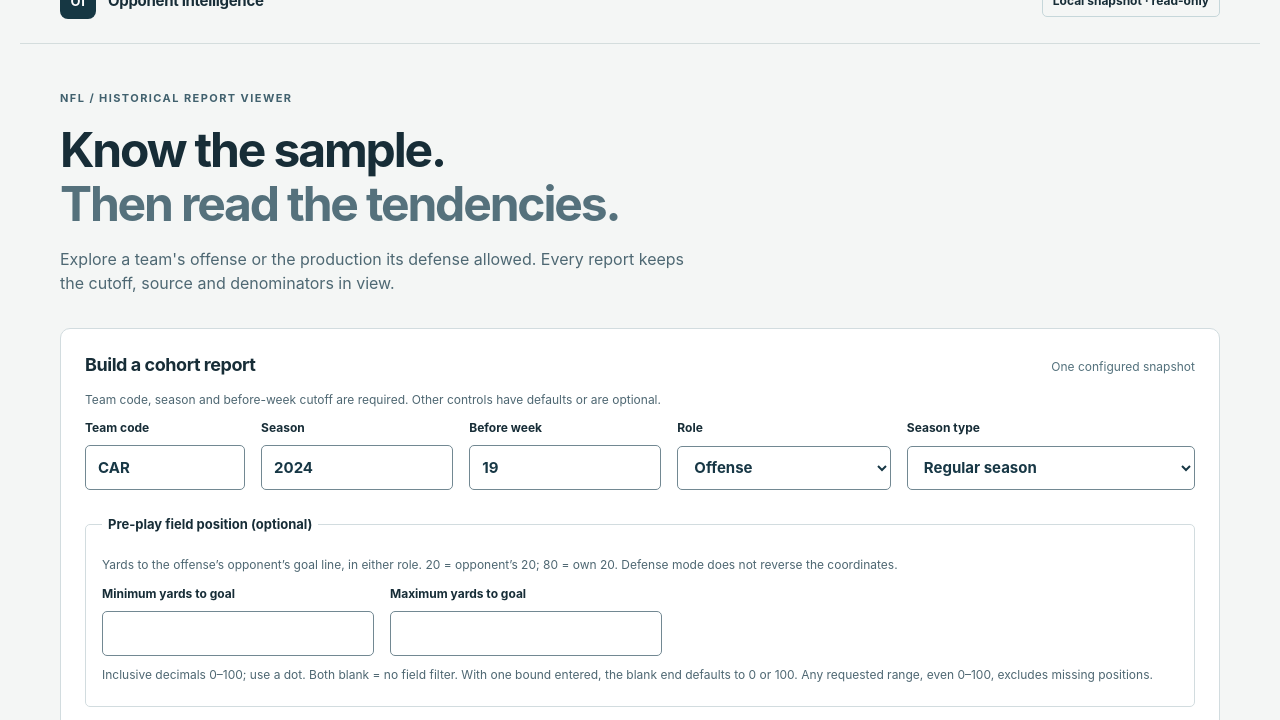
Test: download follows the displayed response, never a stale draft › has no link in idle/loading/stale/error states and releases the previous report on resubmit
Replace the text in the number field labelled "Before week" with "3" at (565, 468), box [469,445,661,490]
(page scrolled)
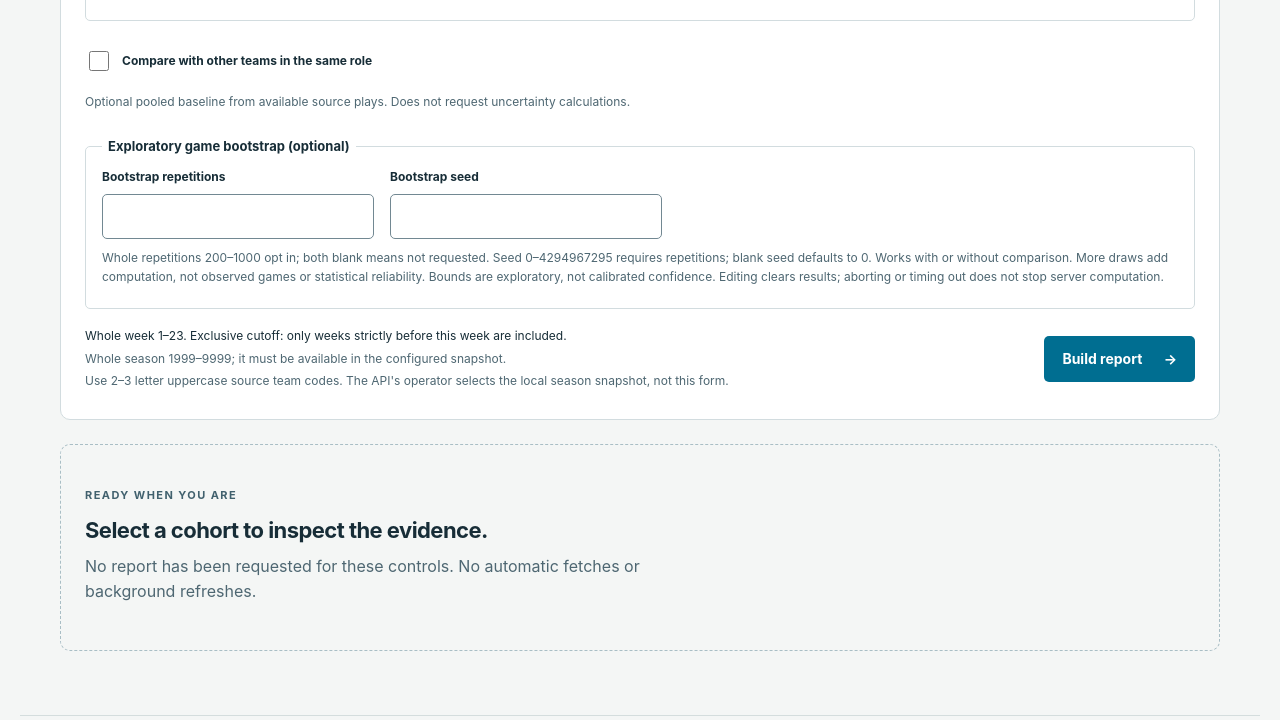
Click the button "Build report →" at (1120, 359), box [1044,336,1195,382]
(page scrolled)
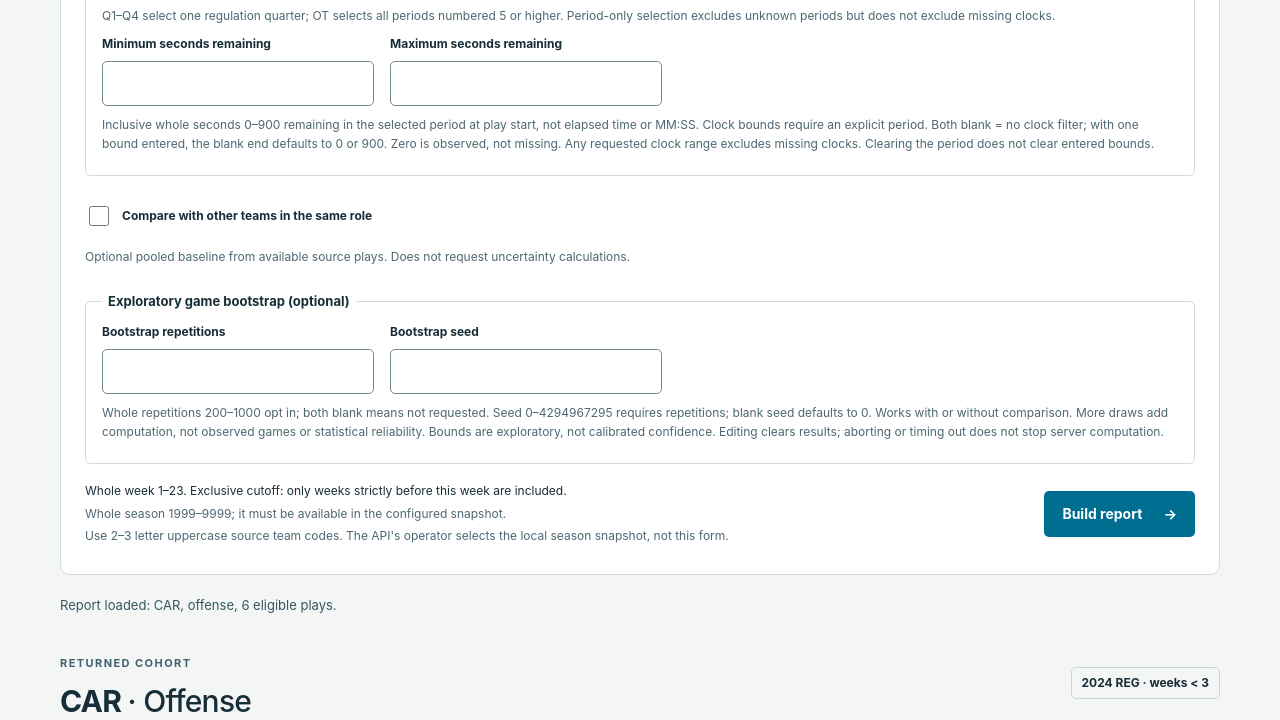
Click the button "Build report →" at (1120, 514), box [1044,491,1195,537]
(page scrolled)
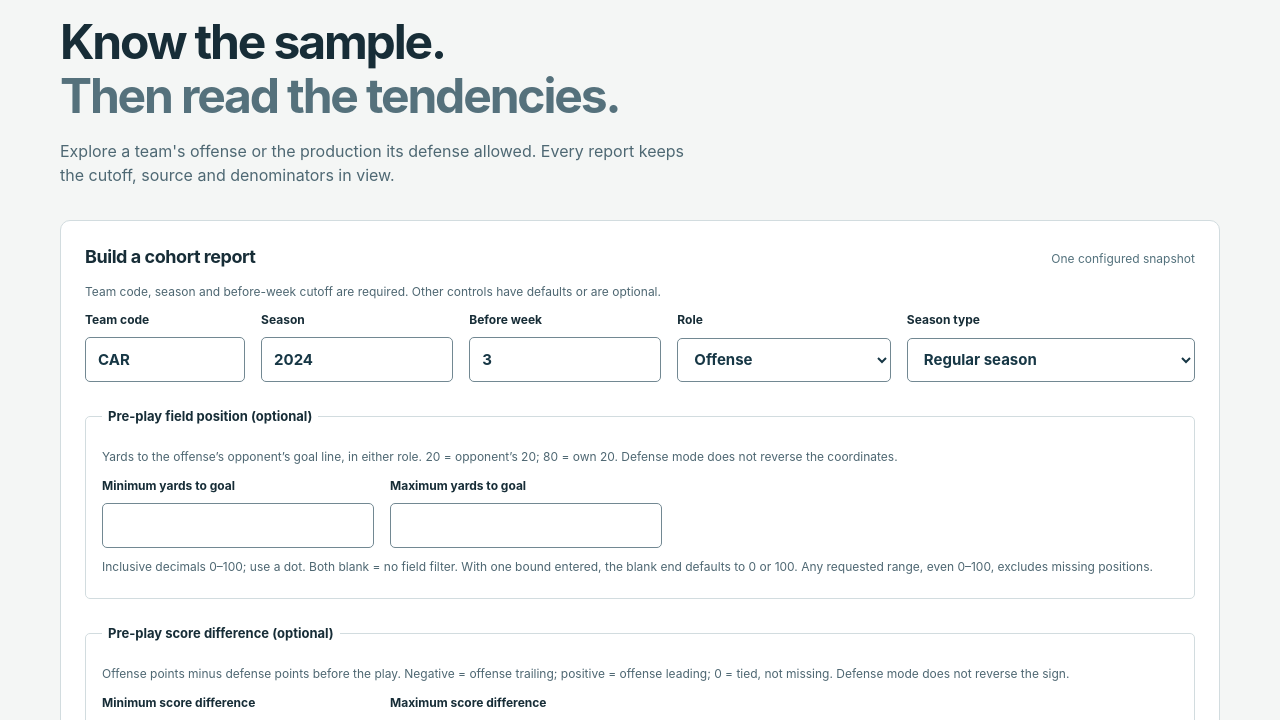
Replace the text in the field labelled "Team code" with "ATL" at (165, 360), box [85,337,245,382]
(page scrolled)
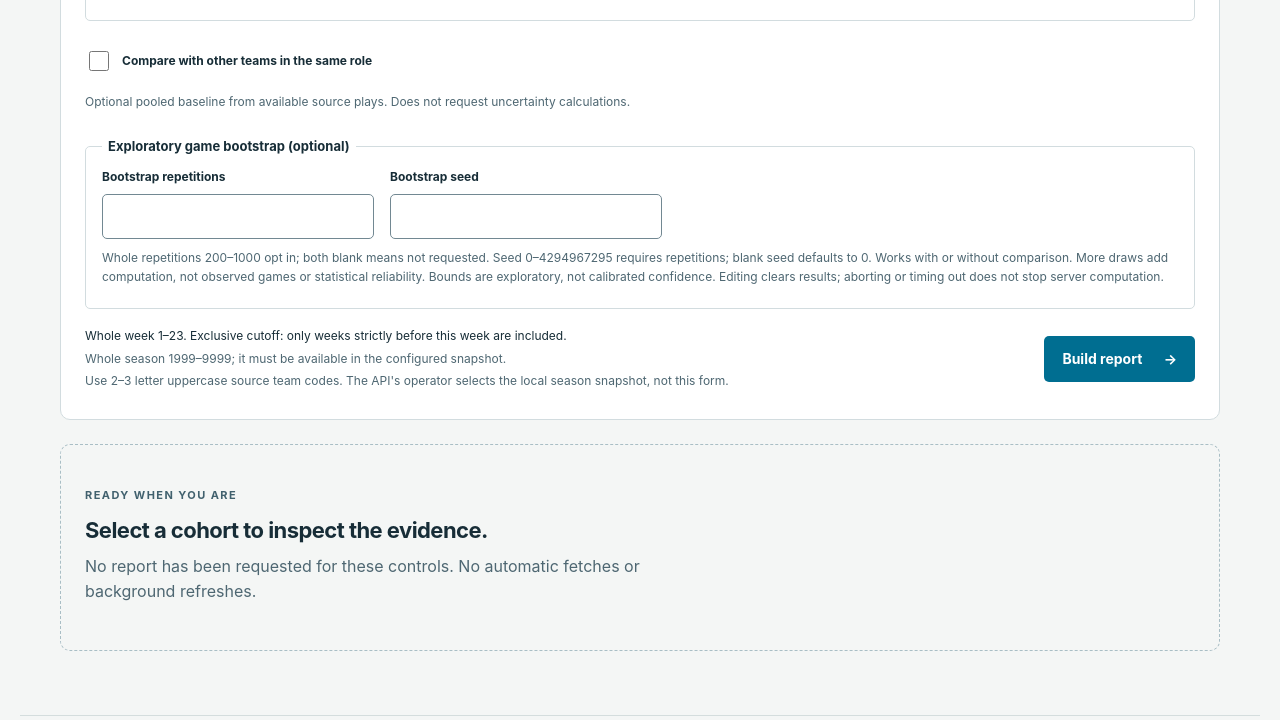
Click the button "Build report →" at (1120, 359), box [1044,336,1195,382]
(page scrolled)
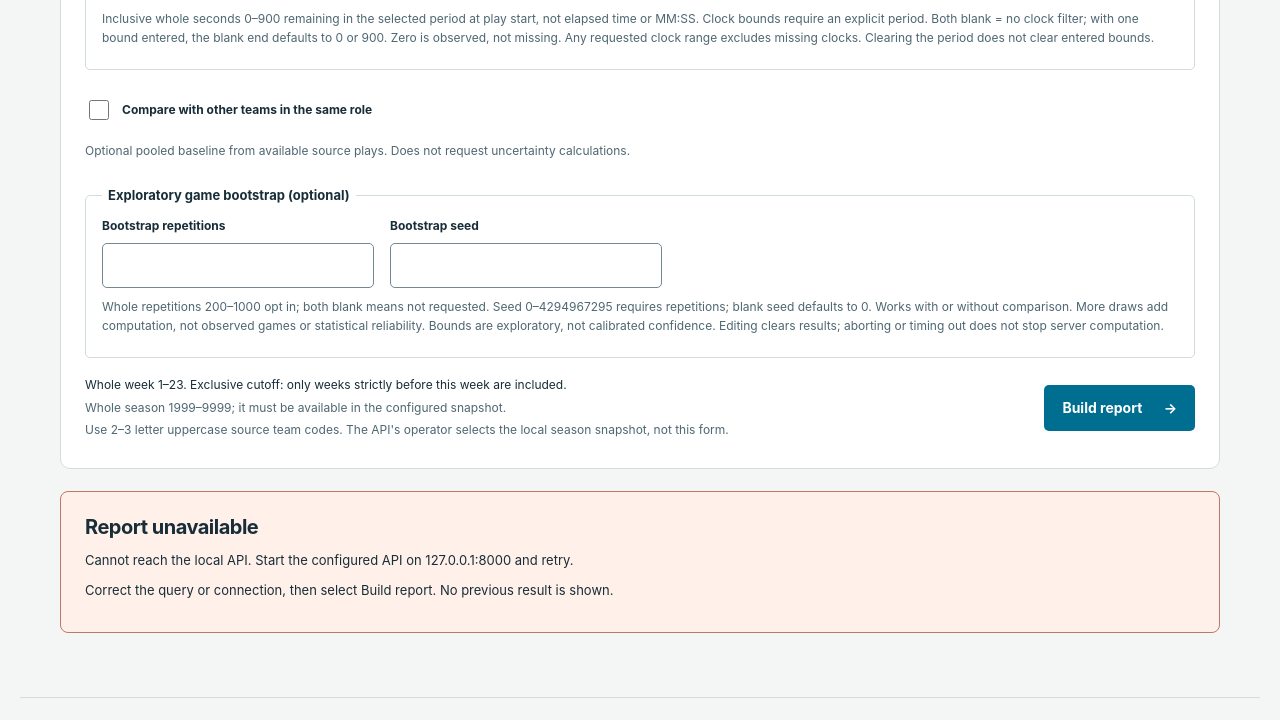
Check: the message shows "Cannot reach the local API", box [85,552,574,568]
